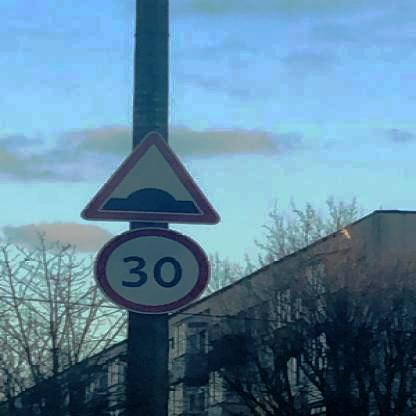Speed Limit -30-: (94, 232, 211, 312)
